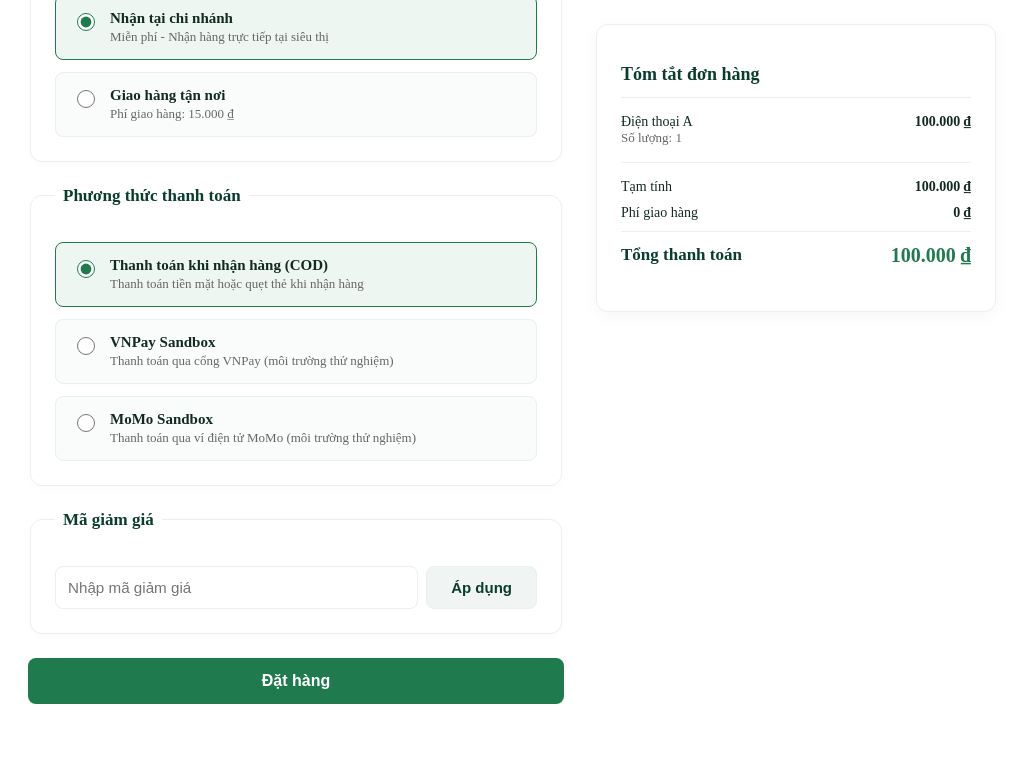
CheckoutPage › removes an applied coupon and reverts the summary
(page scrolled)
Type "SALE10" into the field with placeholder "Nhập mã giảm giá".
click(237, 587); type("SALE10")  # box [55,566,418,609]
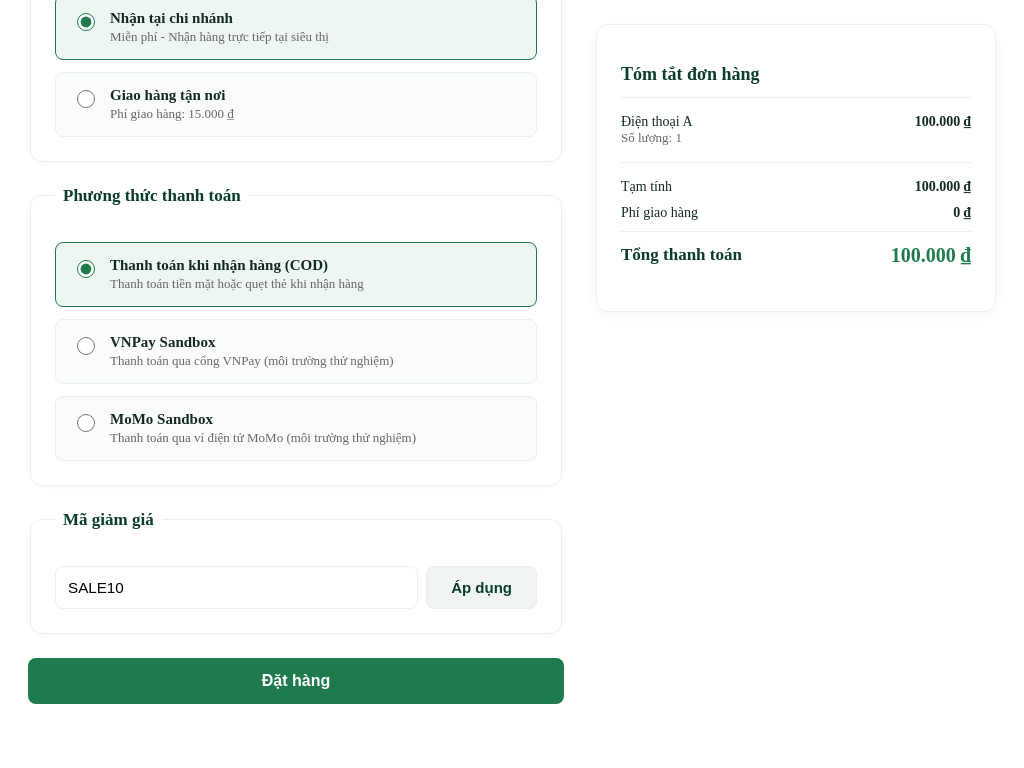
Click the button "Áp dụng".
click(482, 587)  # box [426,566,537,609]
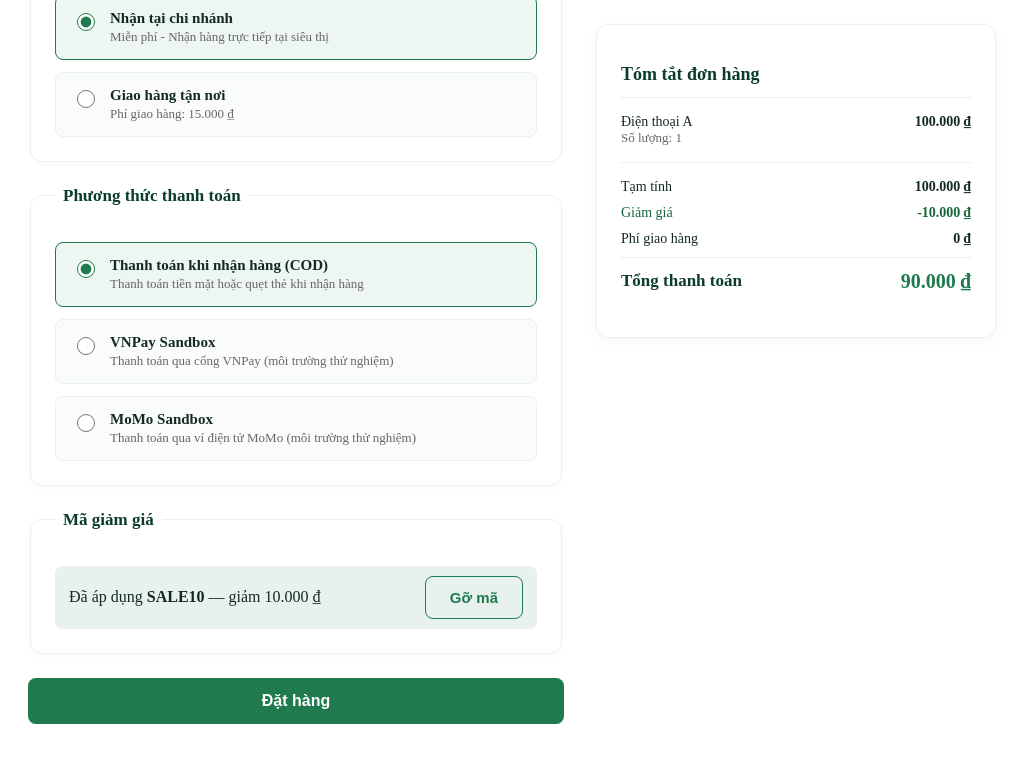
Now the text "SALE10" is shown, box [147,588,205,605]
Click the button "Gỡ mã".
click(474, 597)  # box [425,576,523,619]
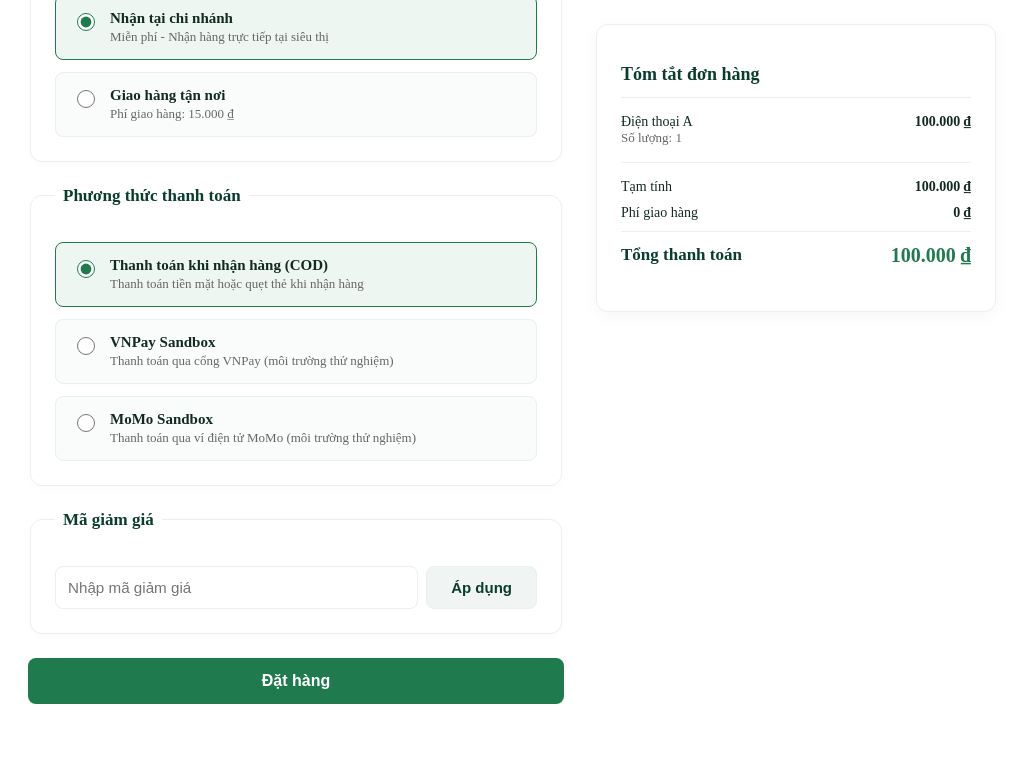
Now the field with placeholder "Nhập mã giảm giá" is shown, box [55,566,418,609]
